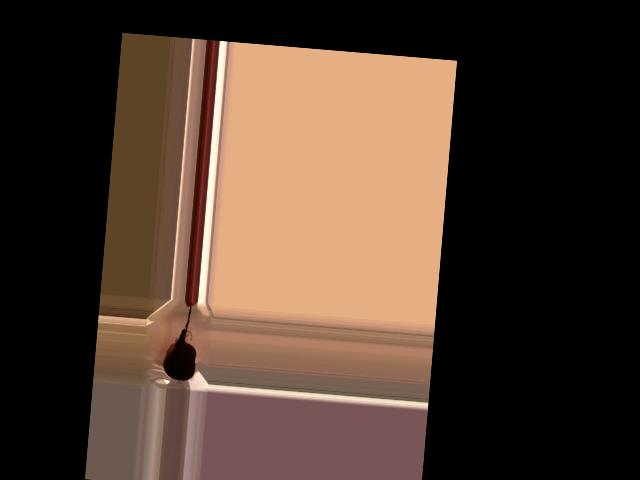beet: (161, 302, 200, 381)
